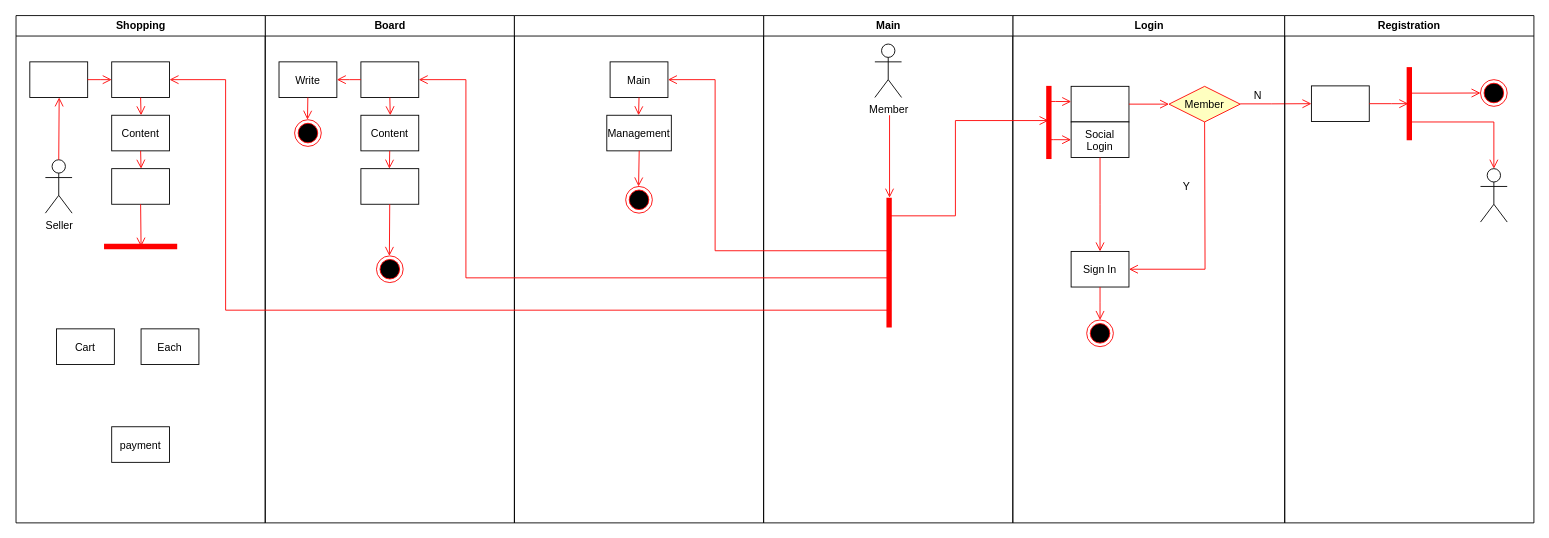
This 1549x538 diagram has some shape labels left out. Here are the shapes that lost their labels. From the top down, the box of each, then its label:
(29, 61, 88, 97): Product Registration
(111, 61, 170, 97): Product List
(360, 61, 419, 97): Board List
(1070, 85, 1129, 122): Member Login
(1311, 85, 1369, 121): Sign Up
(111, 168, 170, 204): Order
(360, 168, 419, 204): Modify
(1480, 168, 1507, 222): Admin
(514, 15, 764, 523): My Page
